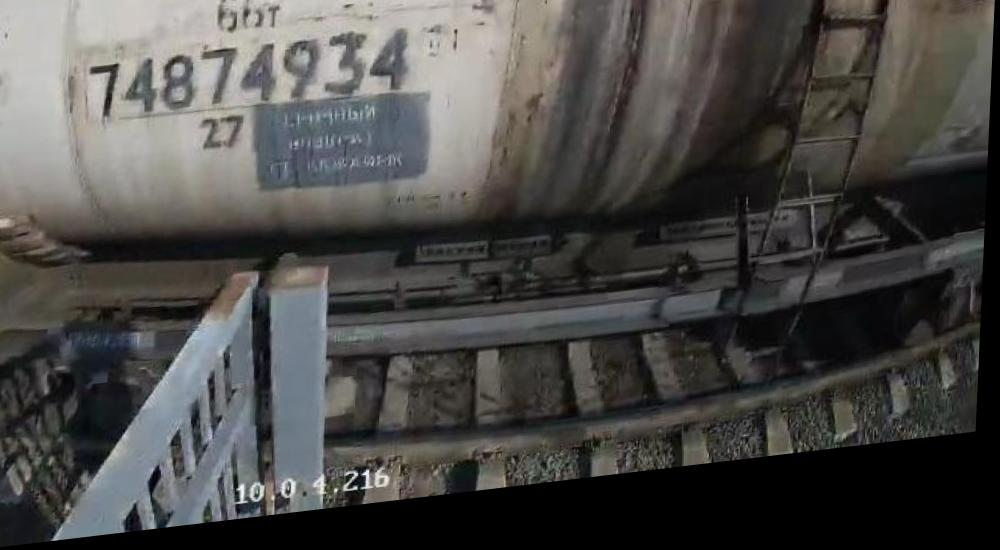Wagon-number: (83, 32, 421, 130)
